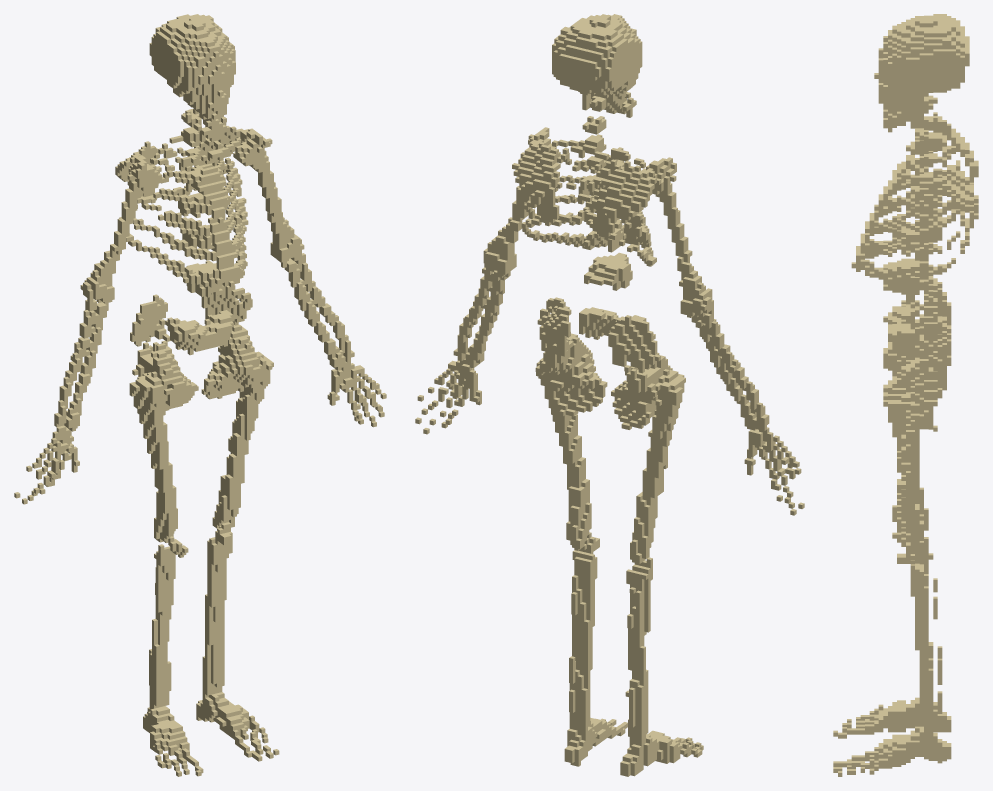
Rendered from skeleton.fbx.
3 renders of one model, left to right at view 1: azimuth 30°, elevation 25°; view 2: azimuth 150°, elevation 25°; view 3: azimuth 270°, elevation 25°, orthographic. The views are drawn at different scales.
Parts seen in each view (by area): view 1: Skeleton; view 2: Skeleton; view 3: Skeleton.
Boxes of the visible parts, x1,y1,x2,y2 form: Skeleton: [14, 14, 386, 776]; Skeleton: [415, 14, 804, 776]; Skeleton: [833, 14, 978, 776].
Bounding box in the file's own units: 821 × 1515 × 271.
